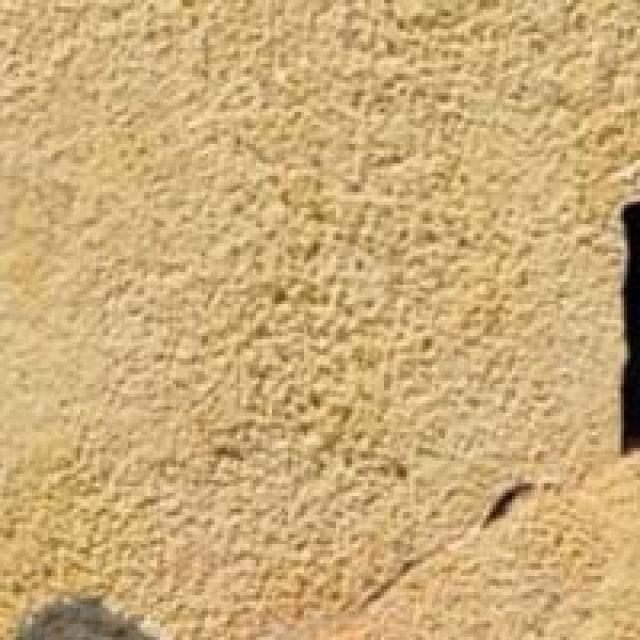Crack: (429, 182, 637, 637)
